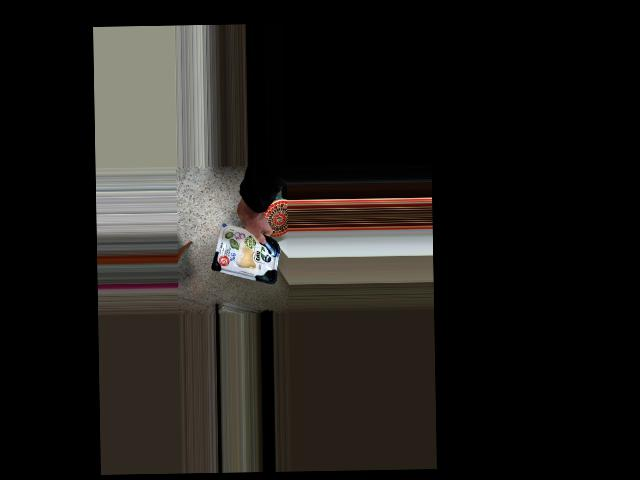cheese: (214, 222, 281, 285)
